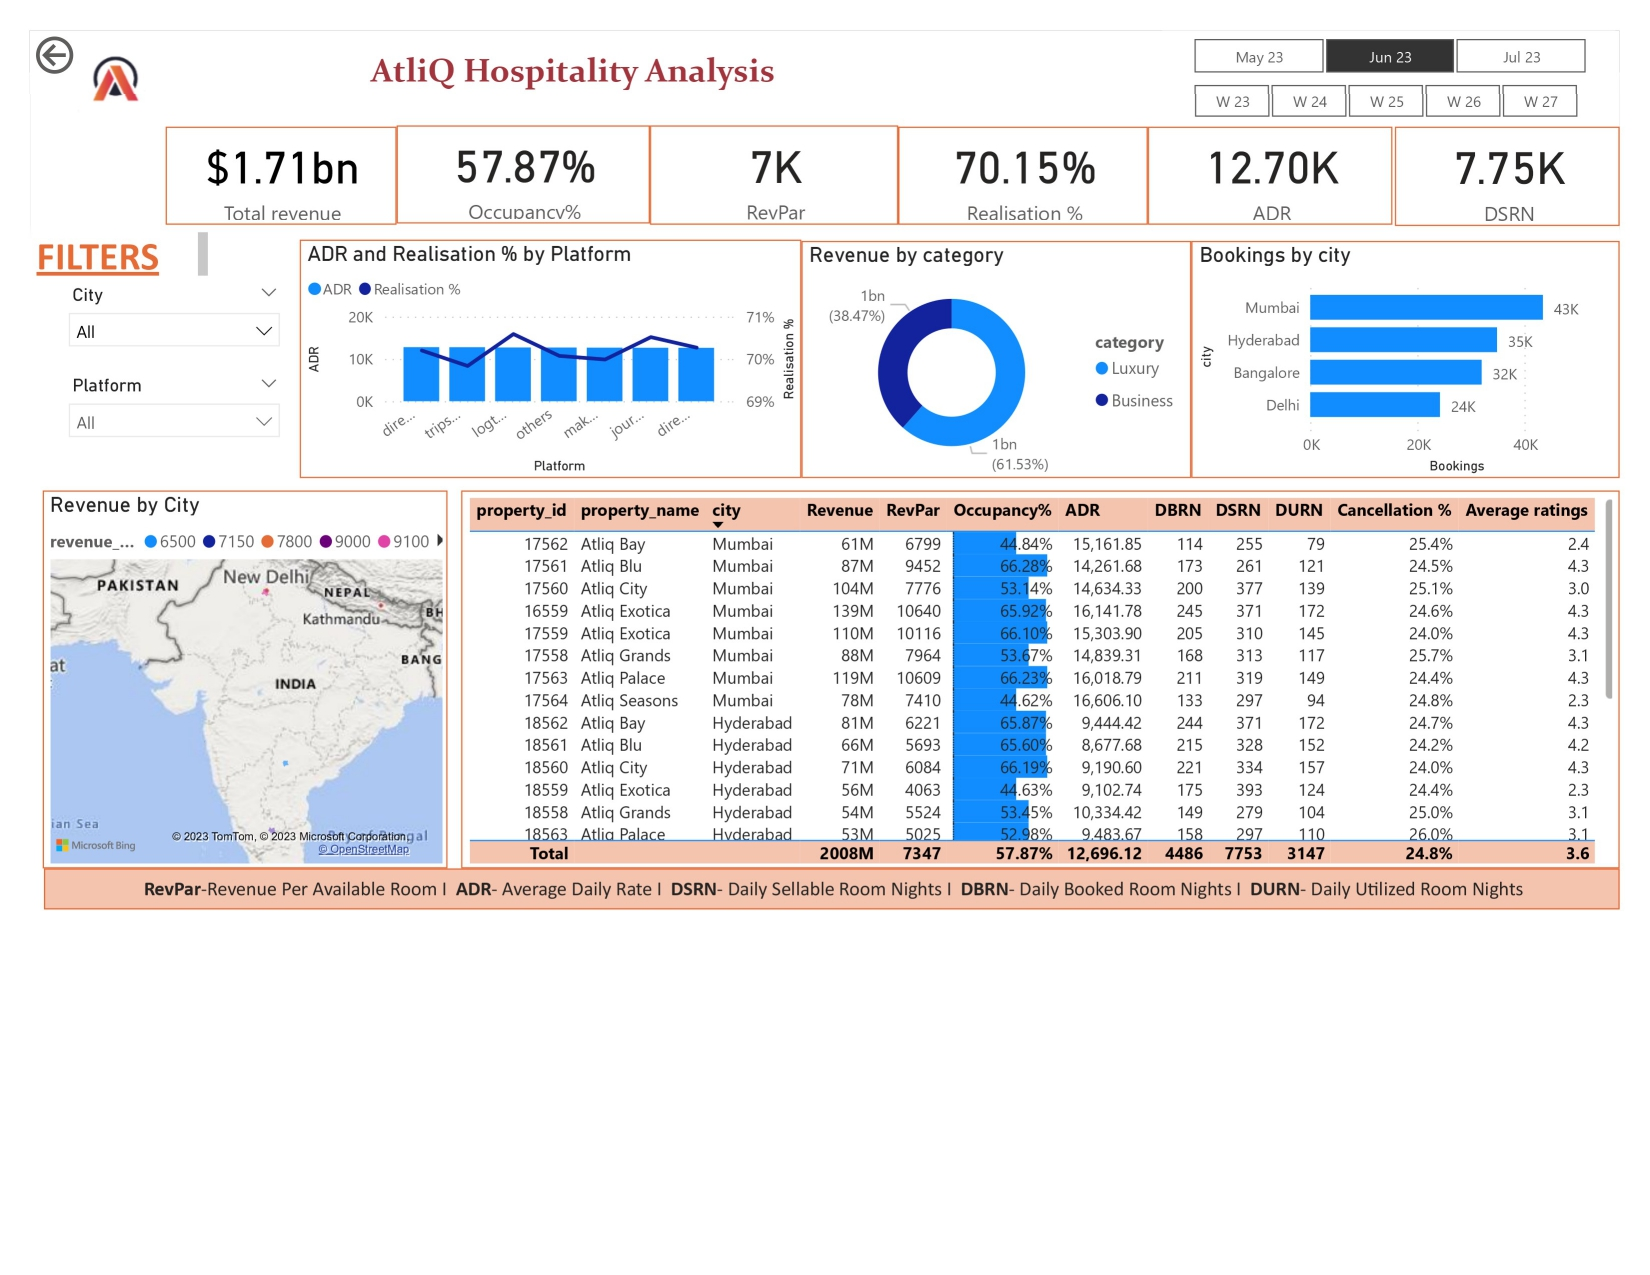

What the dashboard file says about the page in this screenshot:
{"tool":"powerbi","page":{"name":"Page 1","canvas":[1280,720],"ordinal":0},"visuals":[{"type":"card","fields":{"Values":["fact_bookings.Total revenue"]},"box":[108.5,78.4,186.9,78.4],"z":0},{"type":"card","fields":{"Values":["fact_aggregated_bookings.Occupancy%"]},"box":[295.5,77.2,203.8,78.4],"z":1000},{"type":"actionButton","box":[0,0,100,40],"z":2000},{"type":"slicer","fields":{"Values":["dim_date.mmm yy"]},"box":[911.8,0,365.4,41],"z":3000},{"type":"card","fields":{"Values":["fact_bookings.RevPar"]},"box":[499.3,77.2,200.2,79.6],"z":4000},{"type":"card","fields":{"Values":["fact_bookings.Realisation %"]},"box":[699.5,78.4,200.2,78.4],"z":5000},{"type":"card","fields":{"Values":["fact_bookings.Average Daily Rate"]},"box":[899.7,78.4,197.8,78.4],"z":6000},{"type":"donutChart","fields":{"Category":["dim_hotels.category"],"Y":["Sum(fact_bookings.revenue_generated)"]},"box":[621.1,170.1,313.6,190.6],"z":7000},{"type":"clusteredBarChart","fields":{"Category":["dim_hotels.city"],"Y":["CountNonNull(fact_bookings.booking_platform)"]},"box":[934.7,170.1,344.9,190.6],"z":8000},{"type":"tableEx","fields":{"Values":["dim_hotels.property_id","dim_hotels.property_name","dim_hotels.city","Sum(fact_bookings.revenue_generated)","fact_bookings.RevPar","fact_aggregated_bookings.Occupancy%","fact_bookings.Average Daily Rate","dim_date.DBRN","dim_date.DSRN","dim_date.DURN","fact_bookings.Cancellation %","fact_bookings.Average ratings"]},"box":[347.3,371.5,932.3,303.9],"z":9000},{"type":"card","fields":{"Values":["dim_date.DSRN"]},"box":[1098.7,78.4,180.9,79.6],"z":10000},{"type":"filledMap","title":"Revenue by City","fields":{"Category":["dim_hotels.city"],"Series":["fact_bookings.revenue_generated"]},"box":[9.6,371.5,326.8,303.9],"z":11000},{"type":"slicer","fields":{"Values":["dim_hotels.city"]},"box":[20.5,200.2,190.6,72.4],"z":12000},{"type":"slicer","fields":{"Values":["fact_bookings.booking_platform"]},"box":[20.5,272.6,190.6,73.6],"z":13000},{"type":"textbox","box":[0,158,148.3,47],"z":14000},{"type":"lineStackedColumnComboChart","fields":{"Category":["fact_bookings.booking_platform"],"Y":["fact_bookings.Average Daily Rate"],"Y2":["fact_bookings.Realisation %"]},"box":[217.1,168.8,404,191.8],"z":15000},{"type":"textbox","box":[148.3,10.9,577.7,53.1],"z":16000},{"type":"image","box":[28.9,4.8,71.2,69.9],"z":17000},{"type":"textbox","box":[10.9,675.4,1268.7,32.6],"z":18000},{"type":"slicer","fields":{"Values":["dim_date.week no"]},"box":[911.8,37.4,358.2,37.4],"z":18001}]}

Visuals, with their boxes on the page's 1280x720 design canvas (x1, y1, x2, y2). These are canvas units, not pixel positions in the 1650x1275 screenshot, which may show the page scaled, cropped or inside an application window:
card - fact_bookings.Total revenue: [x1=108, y1=78, x2=295, y2=157]
card - fact_aggregated_bookings.Occupancy%: [x1=296, y1=77, x2=499, y2=156]
actionButton: [x1=0, y1=0, x2=100, y2=40]
slicer - dim_date.mmm yy: [x1=912, y1=0, x2=1277, y2=41]
card - fact_bookings.RevPar: [x1=499, y1=77, x2=700, y2=157]
card - fact_bookings.Realisation %: [x1=700, y1=78, x2=900, y2=157]
card - fact_bookings.Average Daily Rate: [x1=900, y1=78, x2=1098, y2=157]
donutChart - dim_hotels.category x Sum(fact_bookings.revenue_generated): [x1=621, y1=170, x2=935, y2=361]
clusteredBarChart - dim_hotels.city x CountNonNull(fact_bookings.booking_platform): [x1=935, y1=170, x2=1280, y2=361]
tableEx - dim_hotels.property_id x dim_hotels.property_name: [x1=347, y1=372, x2=1280, y2=675]
card - dim_date.DSRN: [x1=1099, y1=78, x2=1280, y2=158]
"Revenue by City" filledMap: [x1=10, y1=372, x2=336, y2=675]
slicer - dim_hotels.city: [x1=20, y1=200, x2=211, y2=273]
slicer - fact_bookings.booking_platform: [x1=20, y1=273, x2=211, y2=346]
textbox: [x1=0, y1=158, x2=148, y2=205]
lineStackedColumnComboChart - fact_bookings.booking_platform x fact_bookings.Average Daily Rate: [x1=217, y1=169, x2=621, y2=361]
textbox: [x1=148, y1=11, x2=726, y2=64]
image: [x1=29, y1=5, x2=100, y2=75]
textbox: [x1=11, y1=675, x2=1280, y2=708]
slicer - dim_date.week no: [x1=912, y1=37, x2=1270, y2=75]
